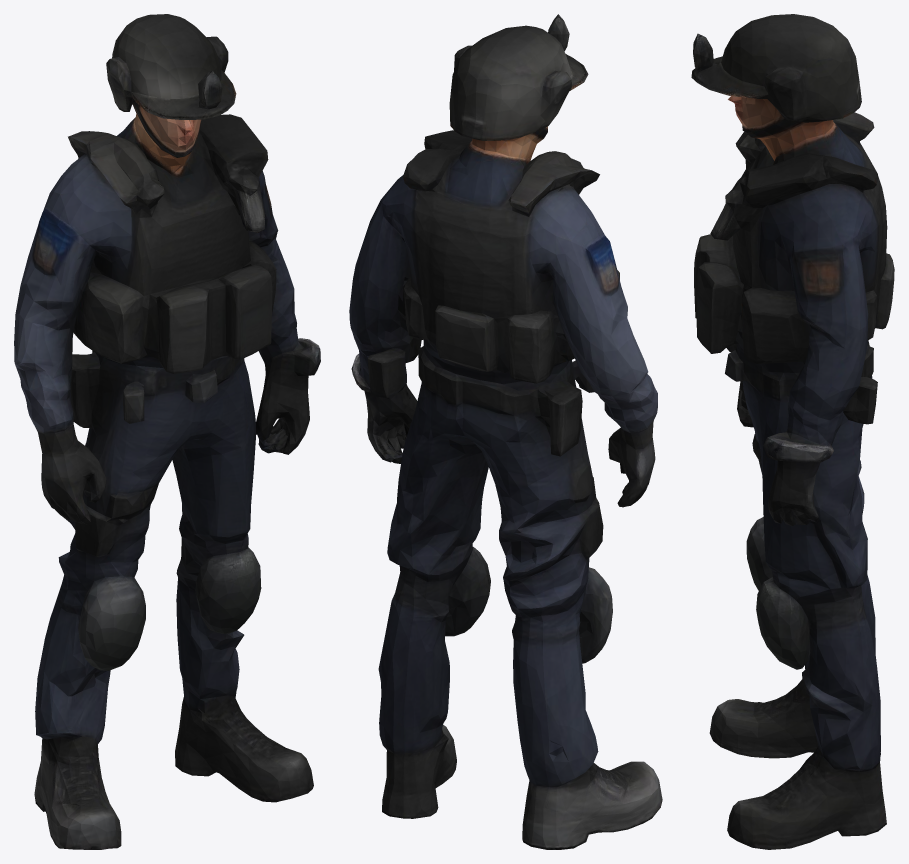
File: officer.glb
3 views of the same model, side by side, from view 1: azimuth 30°, elevation 25°; view 2: azimuth 150°, elevation 25°; view 3: azimuth 270°, elevation 25° (orthographic).
Visible parts, largest first — view 1: geometry_0; view 2: geometry_0; view 3: geometry_0.
Part boxes in pixels (x1,y1,x2,y2): geometry_0: [14, 14, 320, 849]; geometry_0: [349, 14, 662, 849]; geometry_0: [691, 14, 894, 849].
Bounding box in the file's own units: 0.3943 × 0.9997 × 0.2388.
Materials: 1 (1 with a texture image).
